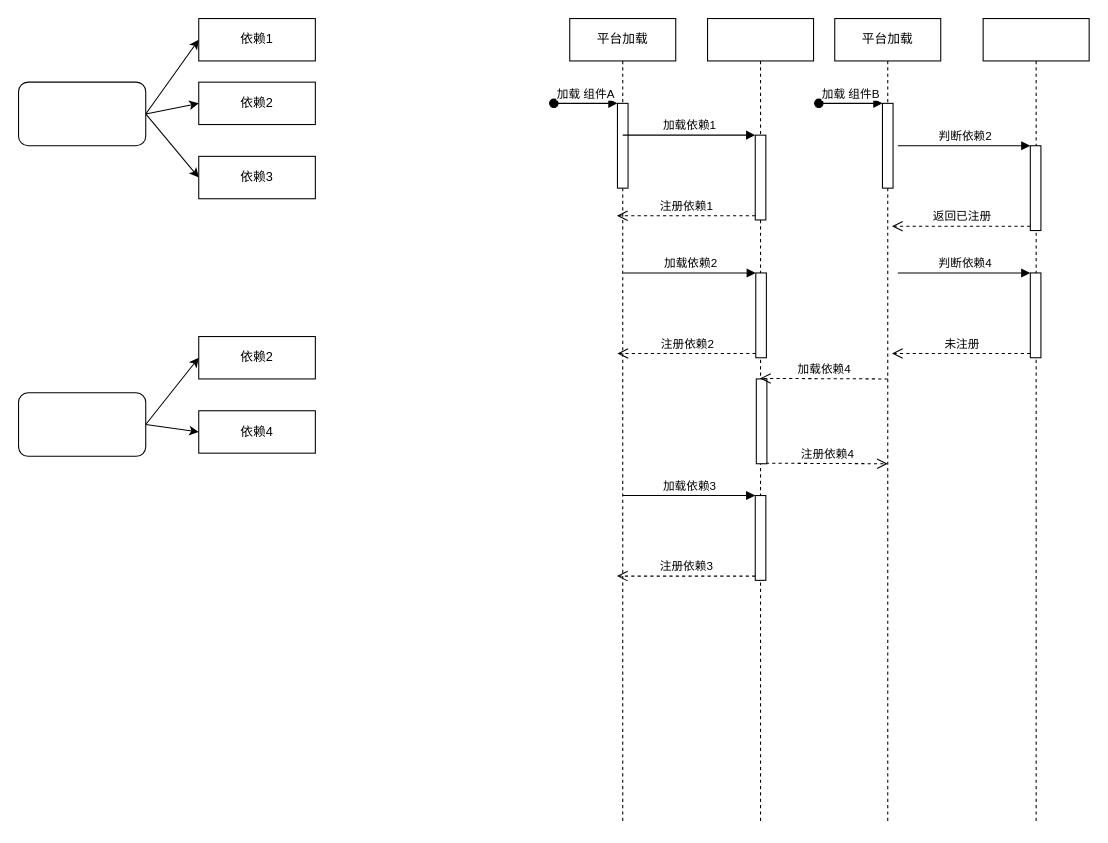
The diagram is 1108 pixels wide and 843 high, and some of its shapes have lost their labels. Here are the shapes that lost their labels. From the top down, the box of each, then its label:
(17, 81, 146, 146): 组件A
(17, 392, 146, 456): 组件B
(706, 17, 814, 824): 加载依赖
(982, 17, 1089, 824): 平台是否注册
